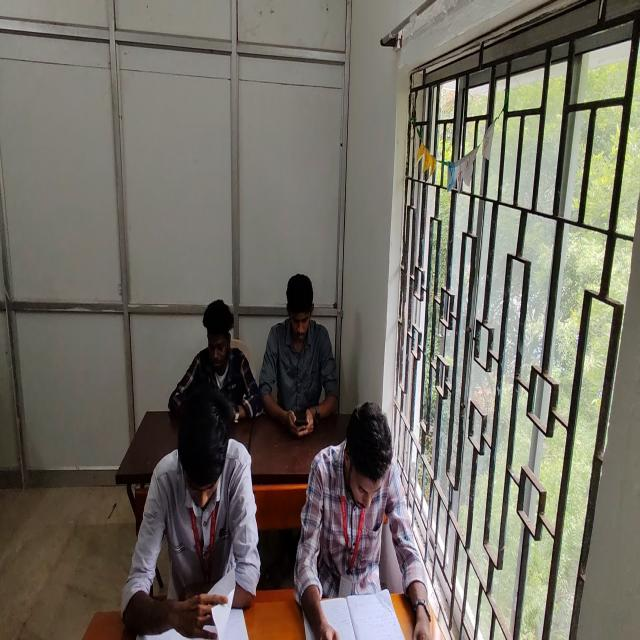reading: (106, 380, 265, 638), (290, 388, 437, 640)
using_mobile: (159, 280, 260, 446), (249, 274, 348, 441)
